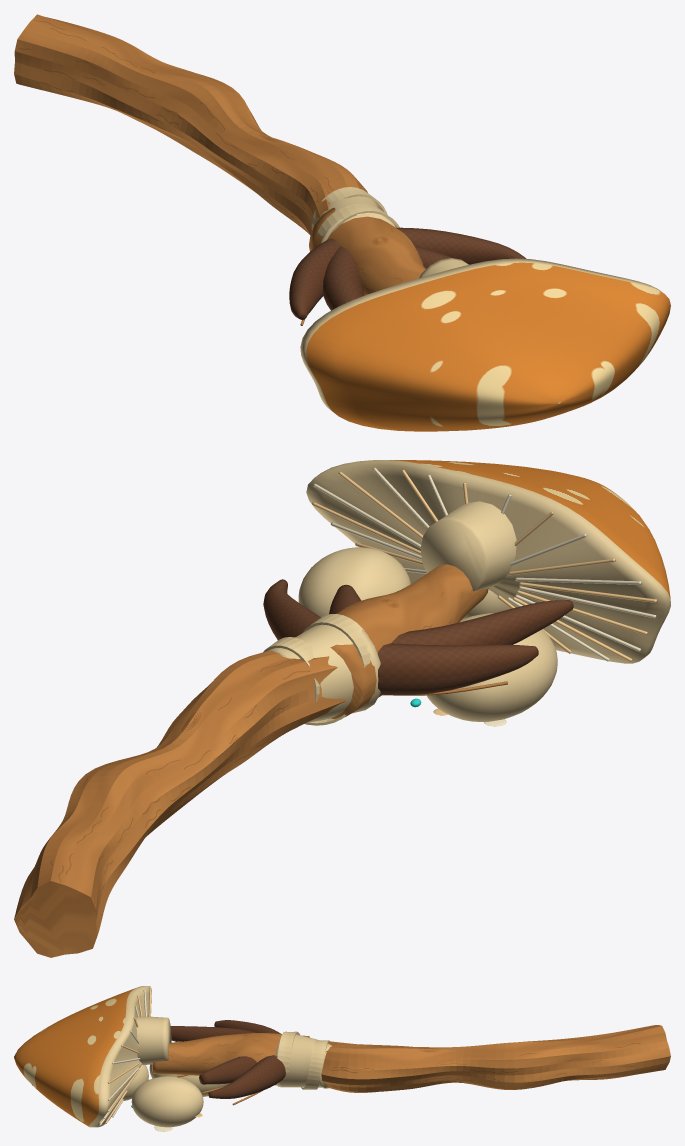
Rendered from spore_wand.glb.
3 views of the same model, one above another, from view 1: azimuth 30°, elevation 25°; view 2: azimuth 150°, elevation 25°; view 3: azimuth 270°, elevation 25° (orthographic). The views are drawn at different scales.
Parts seen in each view (by area): view 1: spore_wand_game_mesh; view 2: spore_wand_game_mesh; view 3: spore_wand_game_mesh.
Part boxes in pixels (x1,y1,x2,y2): spore_wand_game_mesh: (14,14,670,431); spore_wand_game_mesh: (14,460,670,957); spore_wand_game_mesh: (14,986,670,1131).
Size of the model in its own units: 0.3527 by 0.15 by 0.9124.
1 material, 1 textured.
